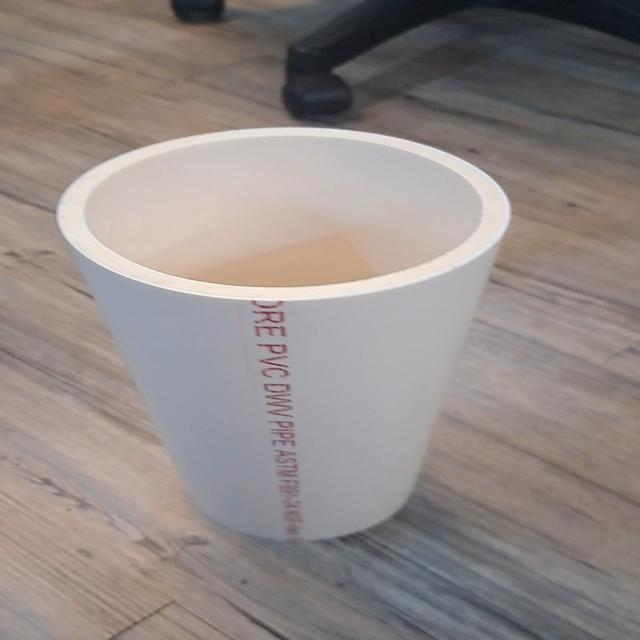CORAL: (51, 125, 547, 548)
